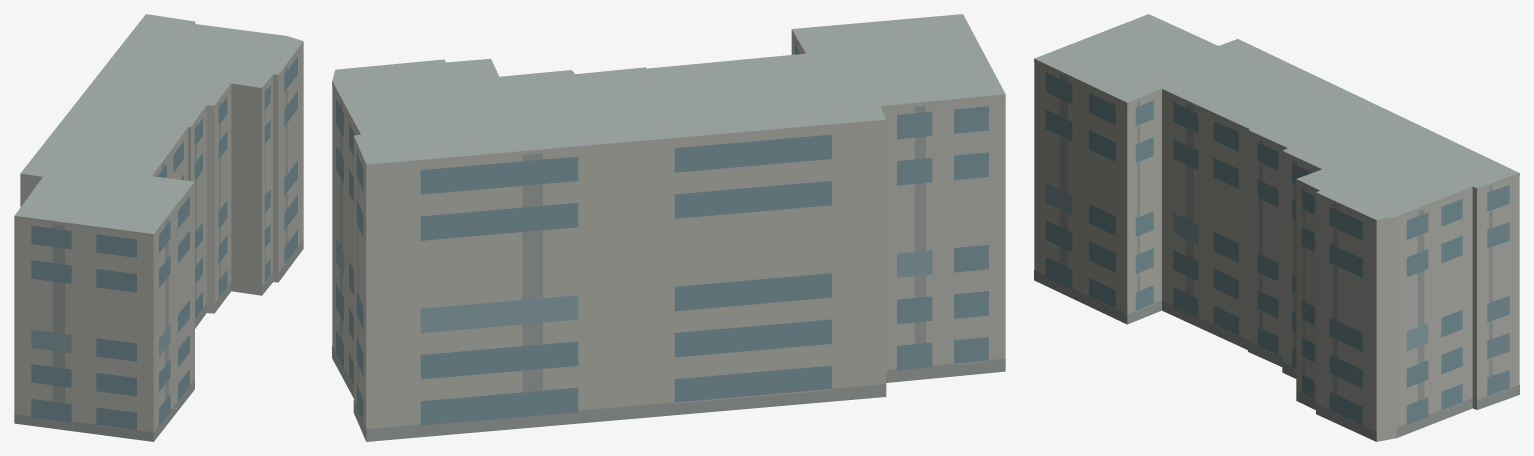
File: survey-upis-32804012.glb
The picture shows the model from 3 angles, left to right: view 1: azimuth 30°, elevation 25°; view 2: azimuth 150°, elevation 25°; view 3: azimuth 270°, elevation 25°; orthographic projection. The views are drawn at different scales.
Visible parts, largest first — view 1: survey-upis-32804012.tmp; view 2: survey-upis-32804012.tmp; view 3: survey-upis-32804012.tmp.
Boxes of the visible parts, x1=… form: survey-upis-32804012.tmp: x1=14, y1=14, x2=303, y2=441; survey-upis-32804012.tmp: x1=332, y1=14, x2=1005, y2=441; survey-upis-32804012.tmp: x1=1034, y1=14, x2=1519, y2=441.
Size of the model in its own units: 34.69 by 17.4 by 34.54.
